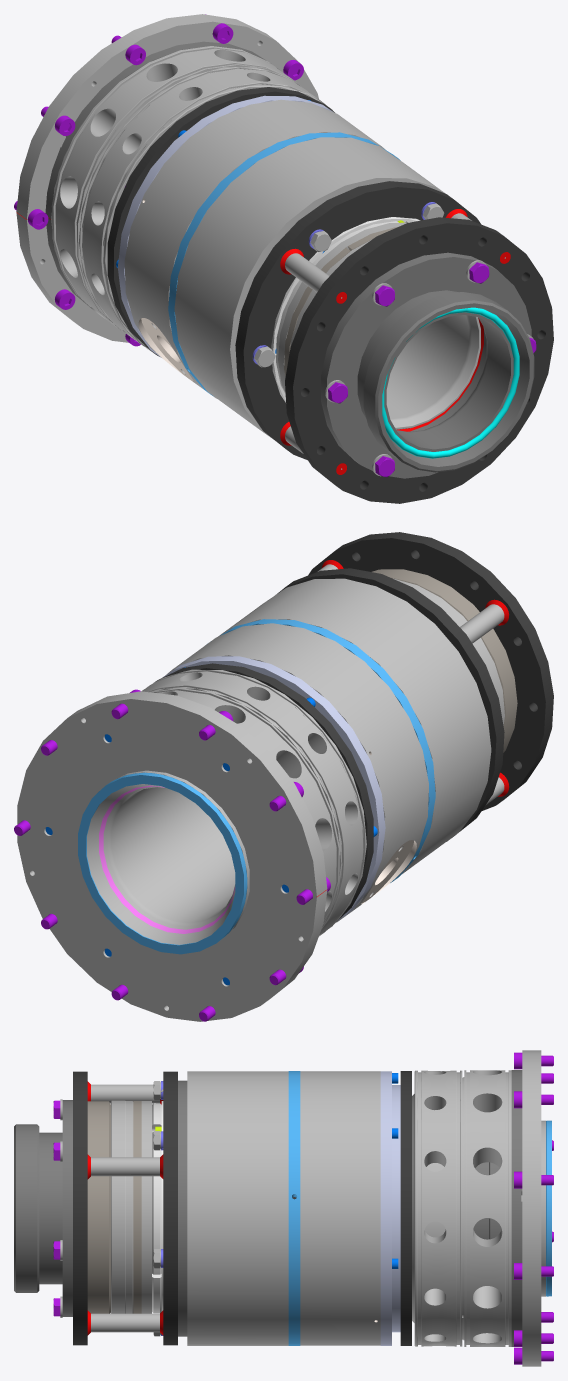
The picture shows the model from 3 angles, top to bottom: view 1: azimuth 30°, elevation 25°; view 2: azimuth 150°, elevation 25°; view 3: azimuth 270°, elevation 25°; orthographic projection. The views are drawn at different scales.
Visible parts, largest first — view 1: TUBO_FISSO_ALIMENTAZIONE_DN125_4001019993_02, CAMICIA_ESTERNA_INFERIORE_4001412390_02, FLANGIA_FORATA_INFERIORE_4001000045_04, PRELAVORAZIONE_TUBO_ALIMENTAZ_COLLETT__4001666883_01_prima r, CAMICIA_ESTERNA_SUPERIORE_4001412573_02, FLANGIA_FORATA_SUPERIORE_4001001764_05, PRELAVORAZIONE_DISTRIBUTORE_ROT_INFER__4001666891_01_prima r, PRELAVORAZIONE_DISTRIBUTORE_ROT_SUPER__4001666886_01_prima r, DISTANZIALE_SP_11_4001085402_01, FLANGIA_DI_ACCOPPIAMENTO_4001001760_02, MODULO_GUIDA_4001001740_01, PRELAVORAZIONE_FLANGIA_DI_ACCOPPIAMENTO_4001666086_01_PRIMA  (+6 smaller); view 2: PRELAVORAZIONE_TUBO_ALIMENTAZ_COLLETT__4001666883_01_prima r, CAMICIA_ESTERNA_INFERIORE_4001412390_02, CAMICIA_ESTERNA_SUPERIORE_4001412573_02, FLANGIA_FORATA_INFERIORE_4001000045_04, PRELAVORAZIONE_DISTRIBUTORE_ROT_INFER__4001666891_01_prima r, DEH411, PRELAVORAZIONE_DISTRIBUTORE_ROT_SUPER__4001666886_01_prima r, FLANGIA_FORATA_SUPERIORE_4001001764_05, MODULO_GUIDA_4001001740_01, COPERCHIO_4001037078_04, DISTANZIALE_SP_11_4001085402_01, FLANGIA_DI_ACCOPPIAMENTO_4001001760_02 (+2 smaller); view 3: CAMICIA_ESTERNA_INFERIORE_4001412390_02, CAMICIA_ESTERNA_SUPERIORE_4001412573_02, PRELAVORAZIONE_DISTRIBUTORE_ROT_INFER__4001666891_01_prima r, PRELAVORAZIONE_DISTRIBUTORE_ROT_SUPER__4001666886_01_prima r, TUBO_FISSO_ALIMENTAZIONE_DN125_4001019993_02, PRELAVORAZIONE_TUBO_ALIMENTAZ_COLLETT__4001666883_01_prima r, MODULO_GUIDA_4001001740_01, COPERCHIO_4001037078_04, FLANGIA_CHIUSURA_LAB__4001489622_02, FLANGIA_FORATA_INFERIORE_4001000045_04, FLANGIA_FORATA_SUPERIORE_4001001764_05, COLONNETTA_4001310487_03 (×3) (+9 smaller).
Part boxes in pixels (x1,y1,x2,y2): TUBO_FISSO_ALIMENTAZIONE_DN125_4001019993_02: [321, 252, 534, 478]; CAMICIA_ESTERNA_INFERIORE_4001412390_02: [174, 137, 445, 439]; FLANGIA_FORATA_INFERIORE_4001000045_04: [285, 217, 553, 503]; PRELAVORAZIONE_TUBO_ALIMENTAZ_COLLETT__4001666883_01_prima r: [16, 14, 480, 429]; CAMICIA_ESTERNA_SUPERIORE_4001412573_02: [124, 99, 385, 398]; FLANGIA_FORATA_SUPERIORE_4001001764_05: [235, 181, 480, 459]; PRELAVORAZIONE_DISTRIBUTORE_ROT_INFER__4001666891_01_prima r: [79, 67, 334, 351]; PRELAVORAZIONE_DISTRIBUTORE_ROT_SUPER__4001666886_01_prima r: [51, 46, 301, 332]; DISTANZIALE_SP_11_4001085402_01: [107, 87, 334, 356]; FLANGIA_DI_ACCOPPIAMENTO_4001001760_02: [168, 132, 400, 396]; MODULO_GUIDA_4001001740_01: [117, 95, 332, 357]; PRELAVORAZIONE_FLANGIA_DI_ACCOPPIAMENTO_4001666086_01_PRIMA : [45, 41, 270, 308]; PRELAVORAZIONE_TUBO_ALIMENTAZ_COLLETT__4001666883_01_prima r: [17, 691, 327, 1021]; CAMICIA_ESTERNA_INFERIORE_4001412390_02: [218, 578, 491, 873]; CAMICIA_ESTERNA_SUPERIORE_4001412573_02: [166, 623, 428, 922]; FLANGIA_FORATA_INFERIORE_4001000045_04: [308, 532, 553, 810]; PRELAVORAZIONE_DISTRIBUTORE_ROT_INFER__4001666891_01_prima r: [141, 669, 366, 936]; DEH411: [78, 772, 247, 954]; PRELAVORAZIONE_DISTRIBUTORE_ROT_SUPER__4001666886_01_prima r: [149, 688, 339, 922]; FLANGIA_FORATA_SUPERIORE_4001001764_05: [277, 568, 504, 841]; MODULO_GUIDA_4001001740_01: [162, 656, 385, 920]; COPERCHIO_4001037078_04: [372, 569, 517, 752]; DISTANZIALE_SP_11_4001085402_01: [154, 663, 373, 921]; FLANGIA_DI_ACCOPPIAMENTO_4001001760_02: [207, 619, 435, 882]; CAMICIA_ESTERNA_INFERIORE_4001412390_02: [187, 1071, 288, 1345]; CAMICIA_ESTERNA_SUPERIORE_4001412573_02: [300, 1071, 380, 1345]; PRELAVORAZIONE_DISTRIBUTORE_ROT_INFER__4001666891_01_prima r: [412, 1070, 463, 1346]; PRELAVORAZIONE_DISTRIBUTORE_ROT_SUPER__4001666886_01_prima r: [424, 1070, 511, 1346]; TUBO_FISSO_ALIMENTAZIONE_DN125_4001019993_02: [14, 1100, 72, 1316]; PRELAVORAZIONE_TUBO_ALIMENTAZ_COLLETT__4001666883_01_prima r: [521, 1050, 545, 1366]; MODULO_GUIDA_4001001740_01: [380, 1071, 400, 1345]; COPERCHIO_4001037078_04: [87, 1101, 110, 1313]; FLANGIA_CHIUSURA_LAB__4001489622_02: [111, 1100, 133, 1313]; FLANGIA_FORATA_INFERIORE_4001000045_04: [73, 1071, 87, 1345]; FLANGIA_FORATA_SUPERIORE_4001001764_05: [163, 1071, 177, 1345]; COLONNETTA_4001310487_03 (×3): [91, 1084, 159, 1332].
Bounding box in the file's own units: 0.299 × 0.3 × 0.512.
